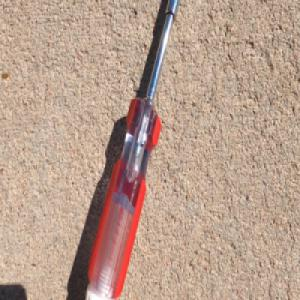Screwdriver: (83, 0, 182, 300)
